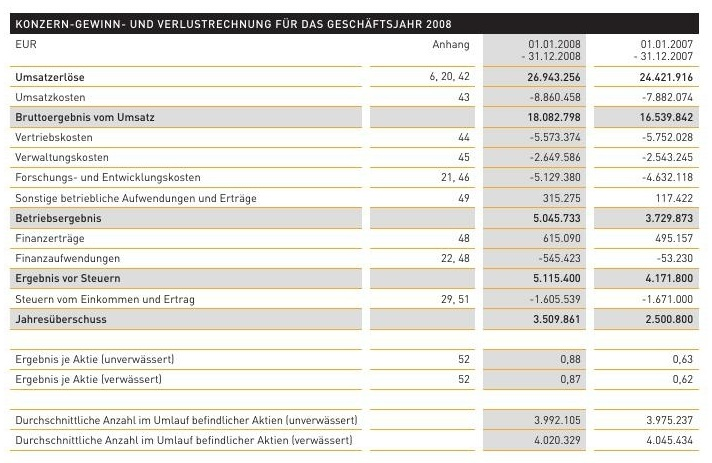table: (0, 0, 712, 463)
